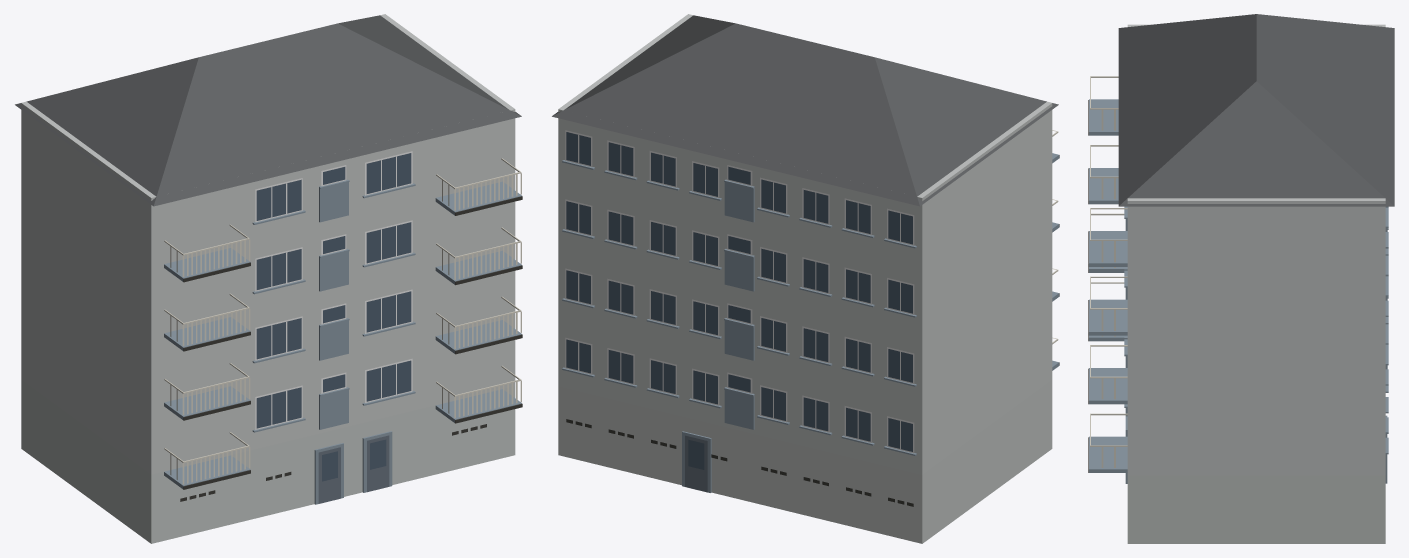
Rendered from nw-peach-render-balcony-front__grey-blue__5__hip__long__solid.glb.
3 views of the same model, side by side, from view 1: azimuth 30°, elevation 25°; view 2: azimuth 150°, elevation 25°; view 3: azimuth 270°, elevation 25° (orthographic).
Parts seen in each view (by area): view 1: nw-peach-render-balcony-front__grey-blue__5__hip__long__soli; view 2: nw-peach-render-balcony-front__grey-blue__5__hip__long__soli; view 3: nw-peach-render-balcony-front__grey-blue__5__hip__long__soli.
Boxes of the visible parts, bbox=[...] form: nw-peach-render-balcony-front__grey-blue__5__hip__long__soli: bbox=[15, 14, 522, 543]; nw-peach-render-balcony-front__grey-blue__5__hip__long__soli: bbox=[552, 14, 1059, 543]; nw-peach-render-balcony-front__grey-blue__5__hip__long__soli: bbox=[1088, 14, 1394, 543].
Size of the model in its own units: 16.47 by 17.57 by 11.95.
